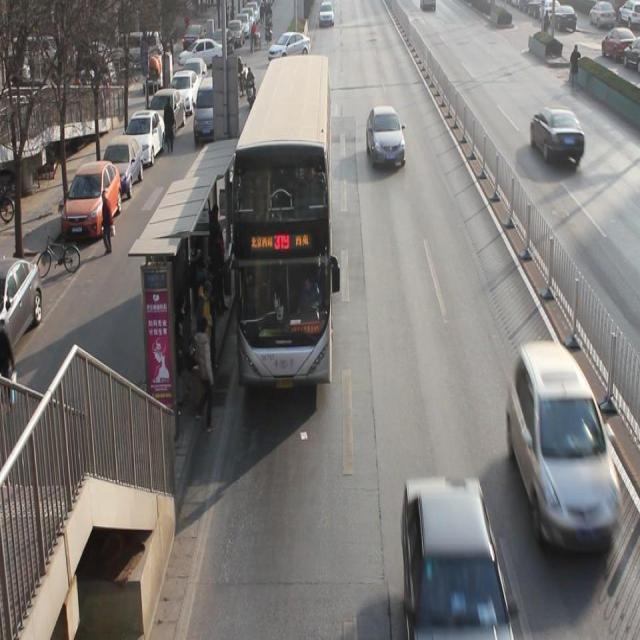car: (509, 340, 623, 555), (400, 478, 511, 632), (529, 108, 587, 163), (367, 108, 406, 175), (286, 33, 310, 59)
van: (232, 55, 333, 384)
